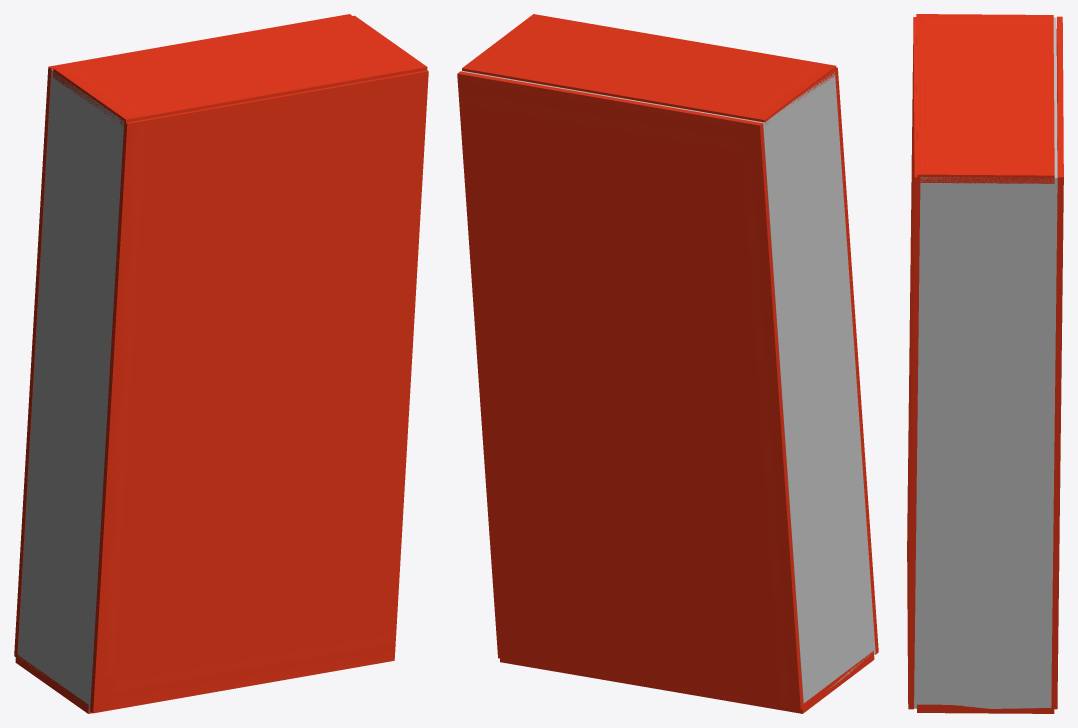
File: dosyaa-fbx.fbx
The picture shows the model from 3 angles, left to right: view 1: azimuth 30°, elevation 25°; view 2: azimuth 150°, elevation 25°; view 3: azimuth 270°, elevation 25°; orthographic projection. The views are drawn at different scales.
Parts seen in each view (by area): view 1: Object_3; view 2: Object_3; view 3: Object_3.
Part boxes in pixels (bbox=[...]): Object_3: bbox=[14, 14, 428, 713]; Object_3: bbox=[457, 14, 878, 713]; Object_3: bbox=[907, 14, 1063, 713].
Size of the model in its own units: 16 by 27.28 by 6.71.
